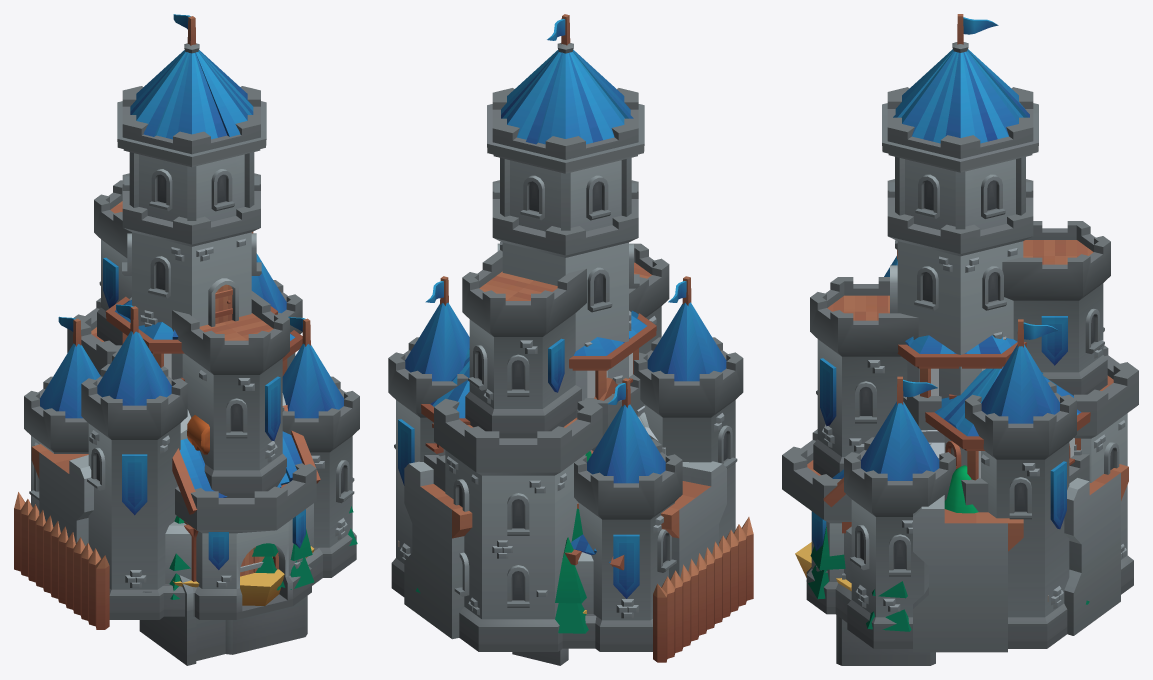
Rendered from kaykit.glb.
The picture shows the model from 3 angles, left to right: view 1: azimuth 30°, elevation 25°; view 2: azimuth 150°, elevation 25°; view 3: azimuth 270°, elevation 25°; orthographic projection. The views are drawn at different scales.
Visible parts, largest first — view 1: building_castle_blue, building_watermill_blue, fence_wood_straight, wall_corner_A_outside, building_tower_A_top_blue, building_grain, trees_A_large, wall_straight_gate, building_lumbermill_top_blue, trees_A_medium; view 2: building_castle_blue, wall_corner_A_outside, fence_wood_straight, building_tower_A_top_blue, building_archeryrange_blue, trees_A_large, building_tower_A_blue, wall_straight, building_watermill_blue; view 3: building_castle_blue, wall_straight, wall_corner_A_outside, wall_straight_gate, building_archeryrange_blue, building_tower_A_top_blue, building_watermill_blue, trees_A_large, trees_B_medium, building_tower_A_blue.
Part boxes in pixels (x1,y1,x2,y2): building_castle_blue: (24, 14, 359, 619); building_watermill_blue: (139, 405, 320, 665); fence_wood_straight: (14, 492, 109, 629); wall_corner_A_outside: (31, 444, 88, 543); building_tower_A_top_blue: (105, 296, 277, 381); building_grain: (173, 546, 314, 605); trees_A_large: (169, 506, 357, 599); wall_straight_gate: (76, 393, 285, 545); building_lumbermill_top_blue: (187, 415, 209, 454); trees_A_medium: (252, 543, 280, 590); building_castle_blue: (388, 14, 743, 651); wall_corner_A_outside: (404, 447, 726, 639); fence_wood_straight: (653, 517, 753, 662); building_tower_A_top_blue: (569, 310, 656, 399); building_archeryrange_blue: (421, 349, 624, 570); trees_A_large: (416, 537, 588, 633); building_tower_A_blue: (576, 374, 644, 436); wall_straight: (662, 461, 720, 515); building_watermill_blue: (512, 648, 568, 665); building_castle_blue: (782, 14, 1138, 648); wall_straight: (913, 495, 1023, 652); wall_corner_A_outside: (1064, 464, 1128, 635); wall_straight_gate: (913, 430, 1023, 636); building_archeryrange_blue: (925, 366, 1090, 512); building_tower_A_top_blue: (897, 335, 1026, 399); building_watermill_blue: (823, 469, 935, 665); trees_A_large: (808, 526, 1089, 631); trees_B_medium: (944, 465, 978, 513); building_tower_A_blue: (903, 394, 941, 430).
Bounding box in the file's own units: 2.05 × 4.33 × 2.26.
Materials: 1 (1 with a texture image).
